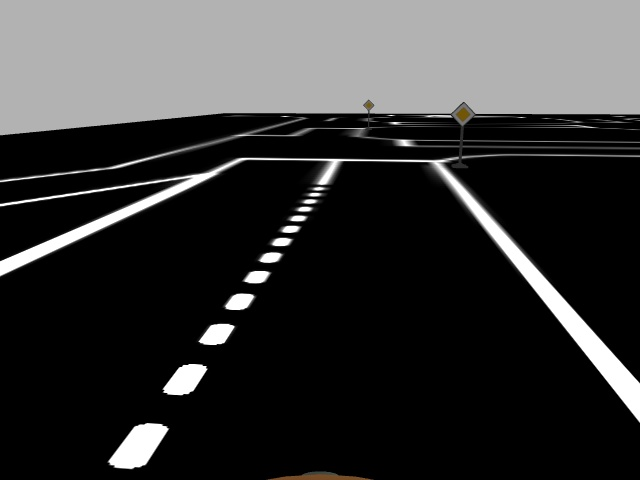priority: (449, 100, 476, 127)
